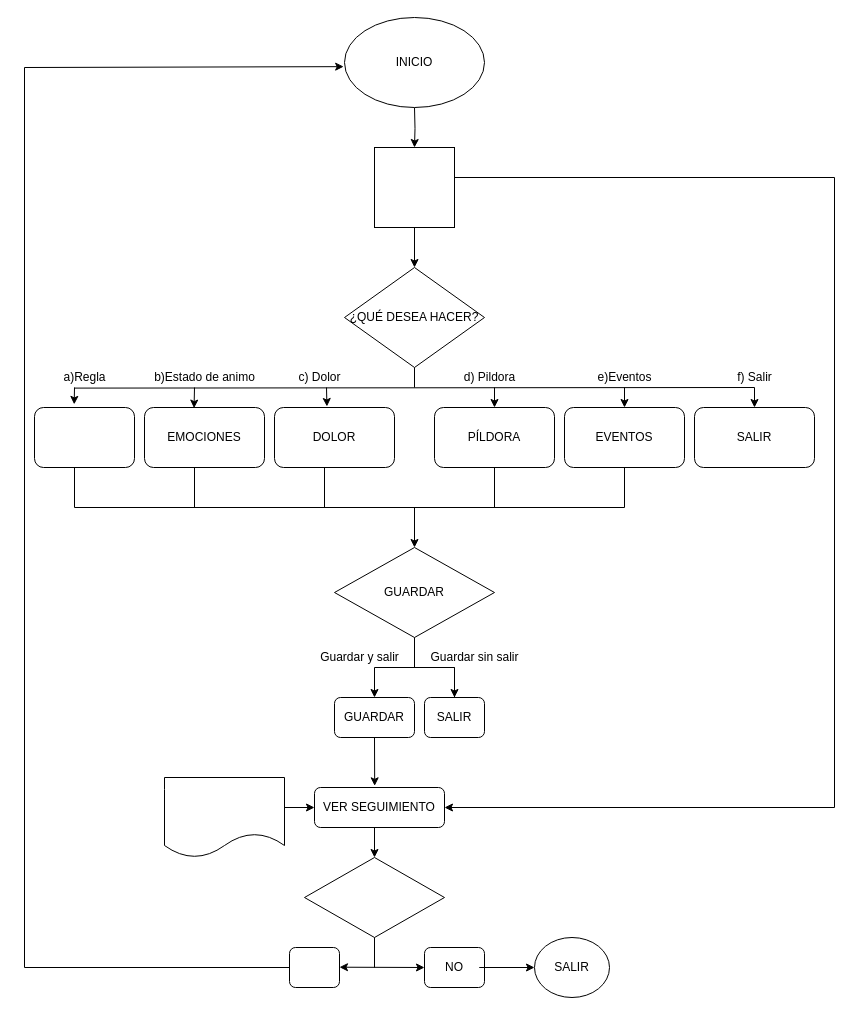
Some shapes in this 860 by 1015 pixel diagram are drawn without their labels. Each missing label, with the centre of its shape:
"Fichero Seguimiento.txt" belongs at (x=224, y=817).
"MENÚ PRINCIPAL" belongs at (x=414, y=187).
"SANGRADO" belongs at (x=84, y=437).
"SI" belongs at (x=314, y=967).
"VOLVER AL INICIO" belongs at (x=374, y=897).
